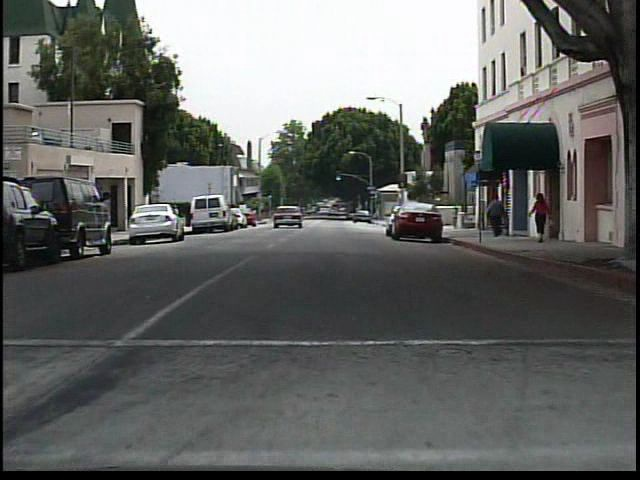person: (530, 187, 553, 244), (483, 193, 506, 240)
